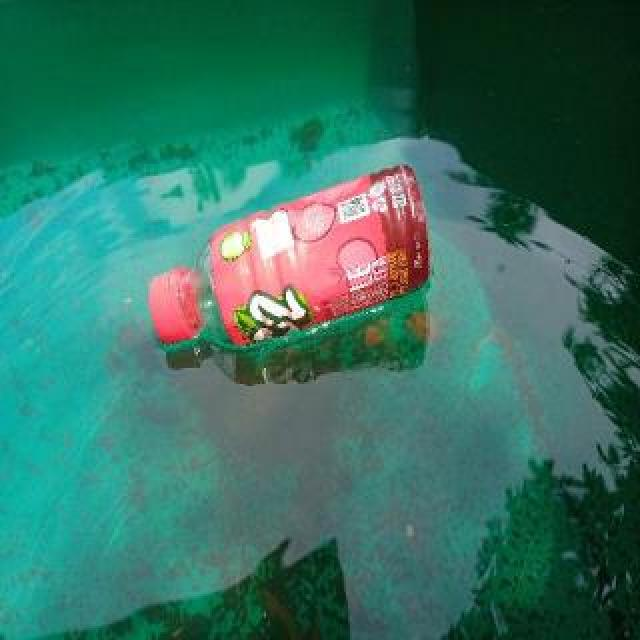Bottle: (139, 156, 438, 364)
